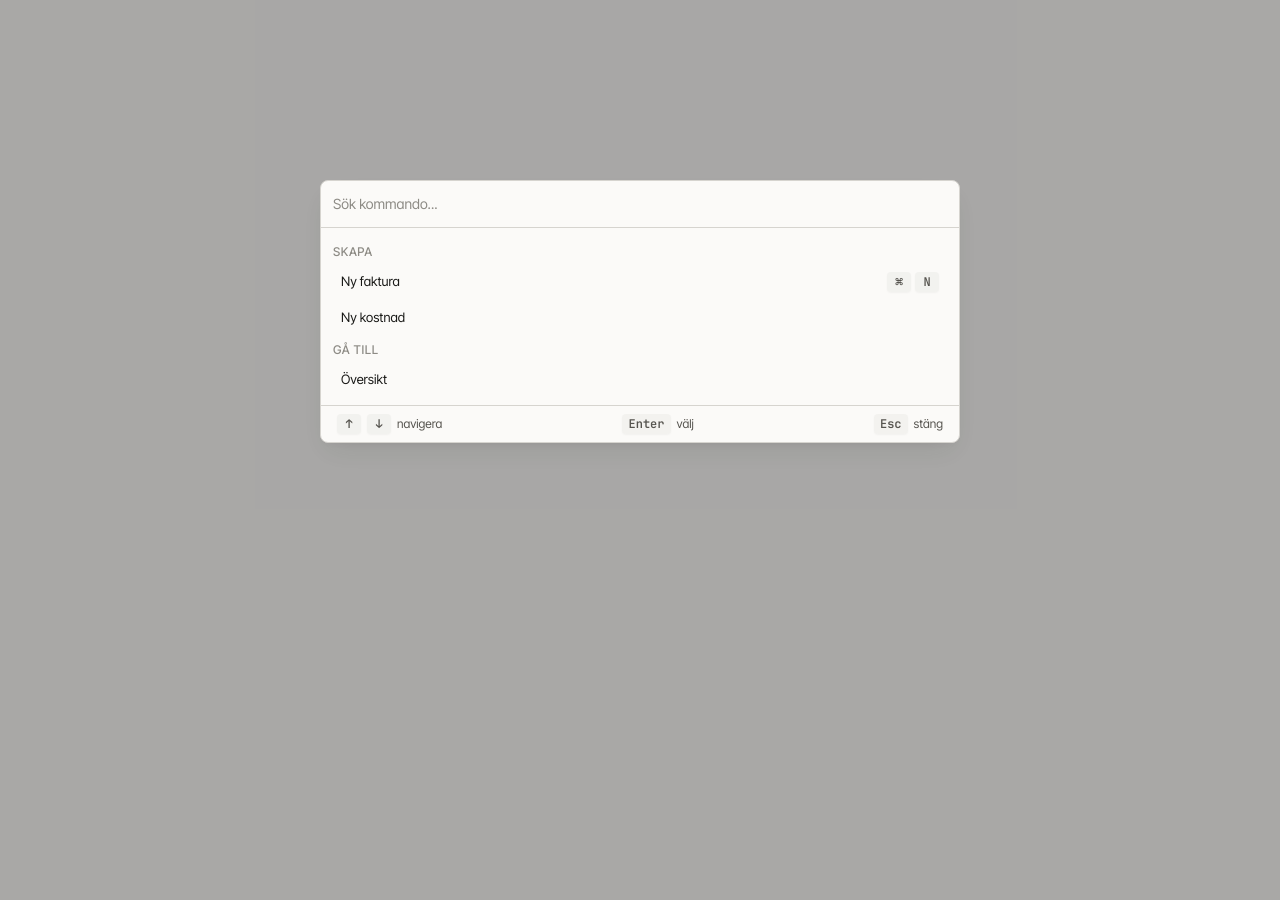
Scenario: CommandPalette › shows empty-state when no matches
The width and height of the screenshot is (1280, 900).
Type "zzz-no-match" into the dropdown with test id "command-palette-input" at (640, 204), box [333,193,947,214]
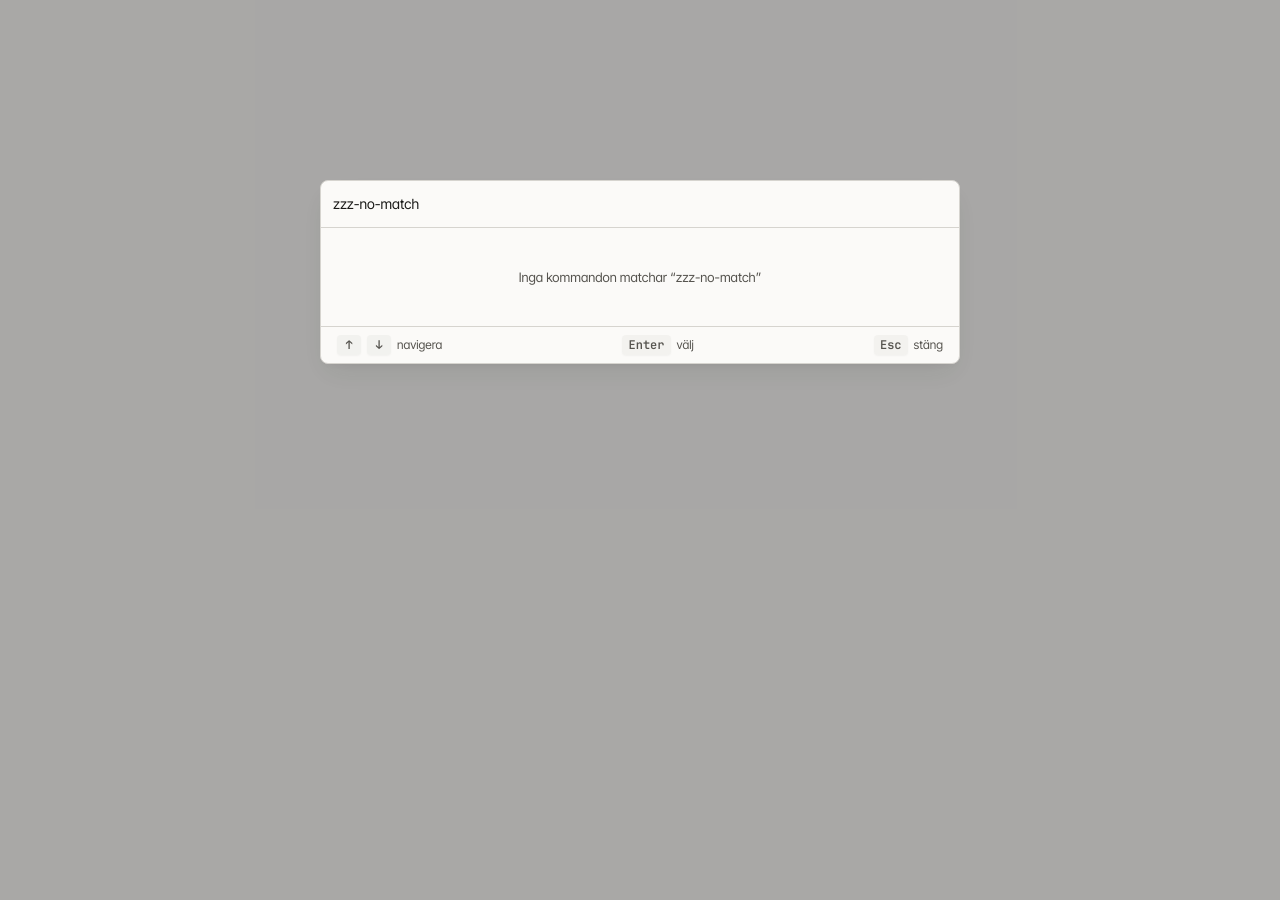
Result: the list item "Inga kommandon matchar “zzz-no-match”" is shown at [519,268,761,284]
